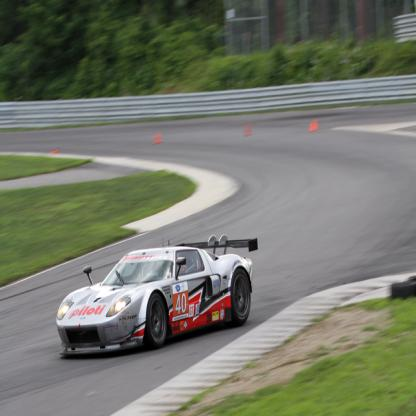Car: (56, 236, 258, 355)
